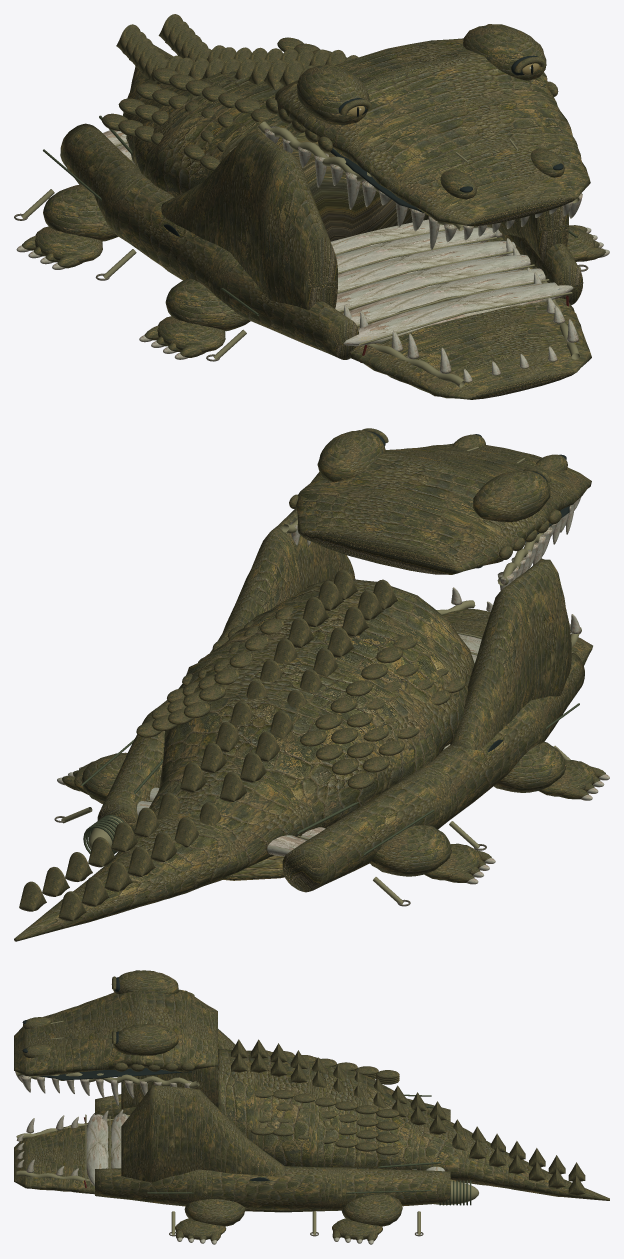
File: night-crocodile-v4.glb
3 renders of one model, top to bottom at view 1: azimuth 30°, elevation 25°; view 2: azimuth 150°, elevation 25°; view 3: azimuth 270°, elevation 25°, orthographic. The views are drawn at different scales.
Parts seen in each view (by area): view 1: Body, UpperJaw; view 2: Body, UpperJaw; view 3: Body, UpperJaw.
Part boxes in pixels (x1=…): Body: x1=14, y1=14, x2=609, y2=399; UpperJaw: x1=258, y1=24, x2=590, y2=250; Body: x1=14, y1=508, x2=609, y2=941; UpperJaw: x1=282, y1=428, x2=591, y2=590; Body: x1=14, y1=1029, x2=609, y2=1244; UpperJaw: x1=14, y1=970, x2=217, y2=1106.
Bounding box in the file's own units: 6.38 × 3.79 × 11.4.
11 materials, 3 textured.
